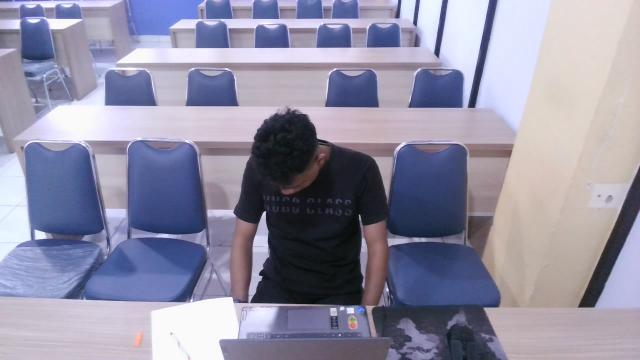Head_Down_Extreme: (233, 102, 390, 286)
